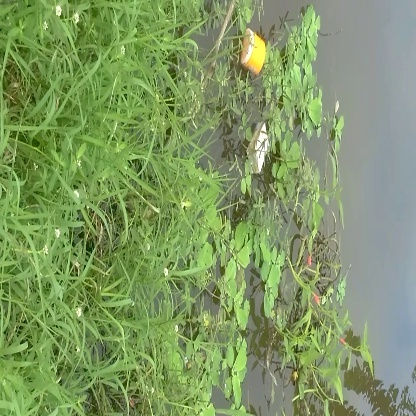bottle: (235, 23, 277, 78)
